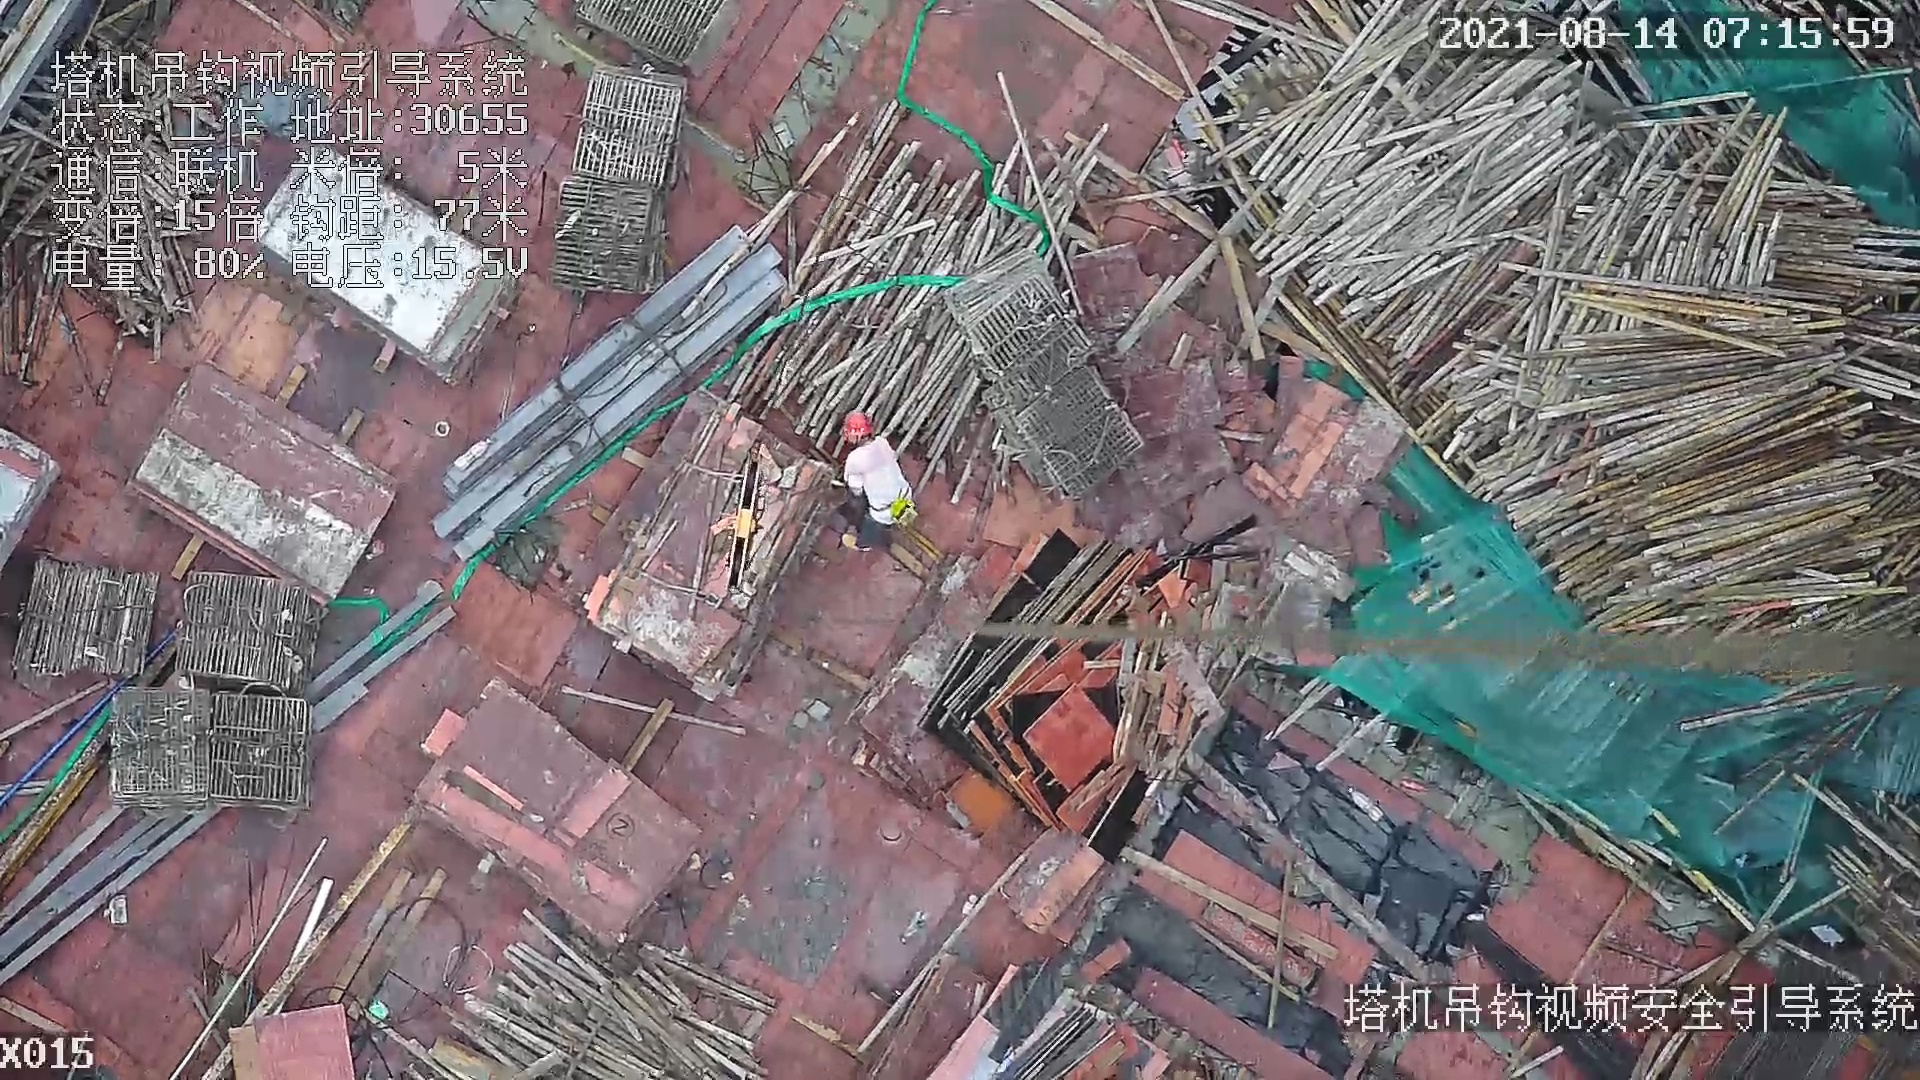helmet: (841, 406, 881, 445)
hook: (718, 453, 765, 594)
person: (835, 412, 917, 550)
